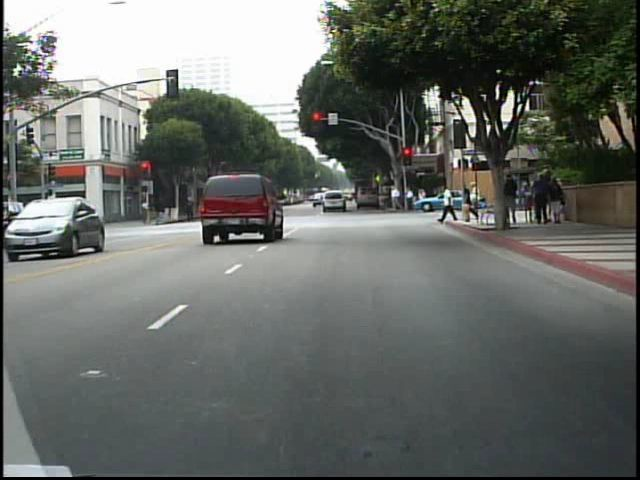person: (504, 172, 520, 228), (519, 180, 536, 227), (440, 183, 457, 225), (468, 179, 482, 224), (184, 192, 197, 226), (465, 181, 472, 224), (140, 197, 149, 225)
